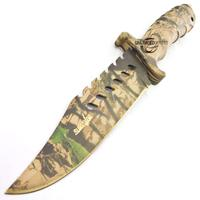knife: (3, 5, 193, 198)
